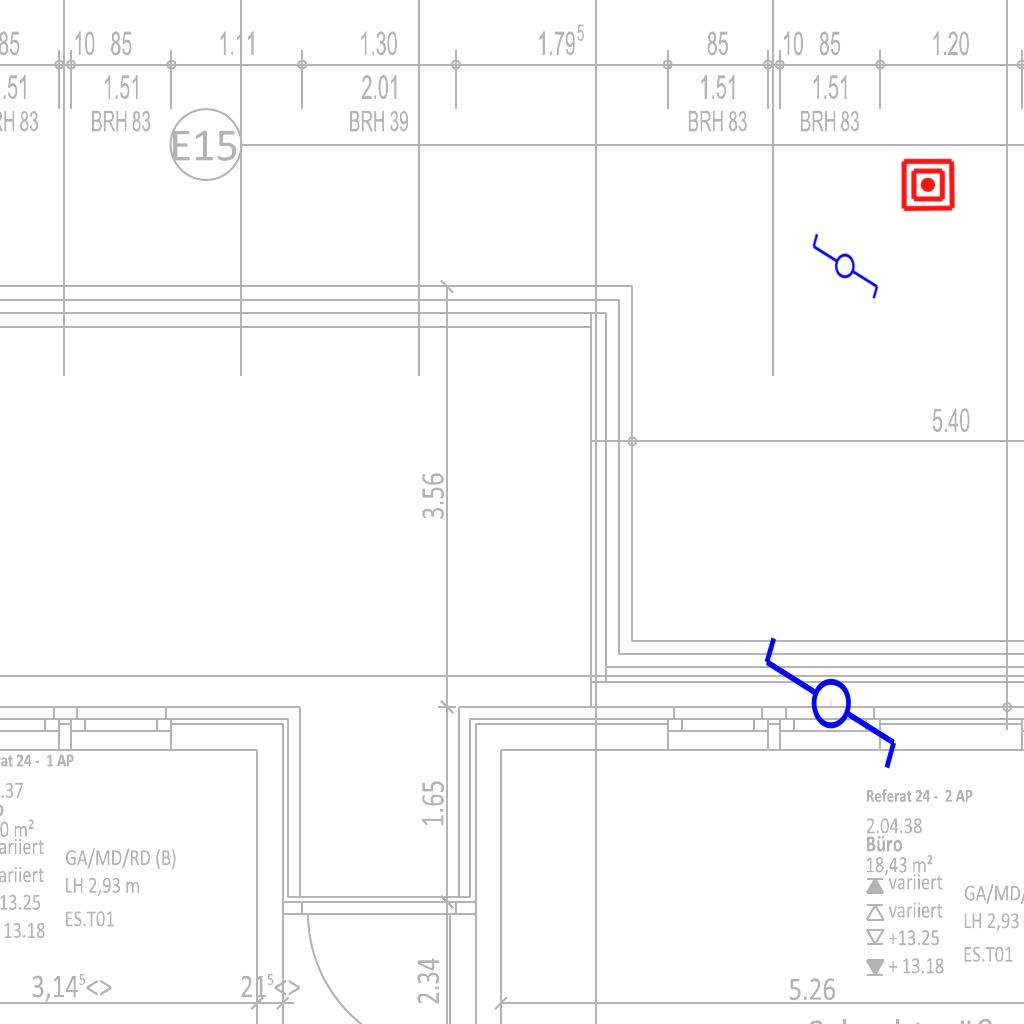NAM-Nichtautomatischer_Melder: (900, 157, 956, 213)
Wechselschalter: (757, 633, 901, 790), (810, 223, 882, 301)
